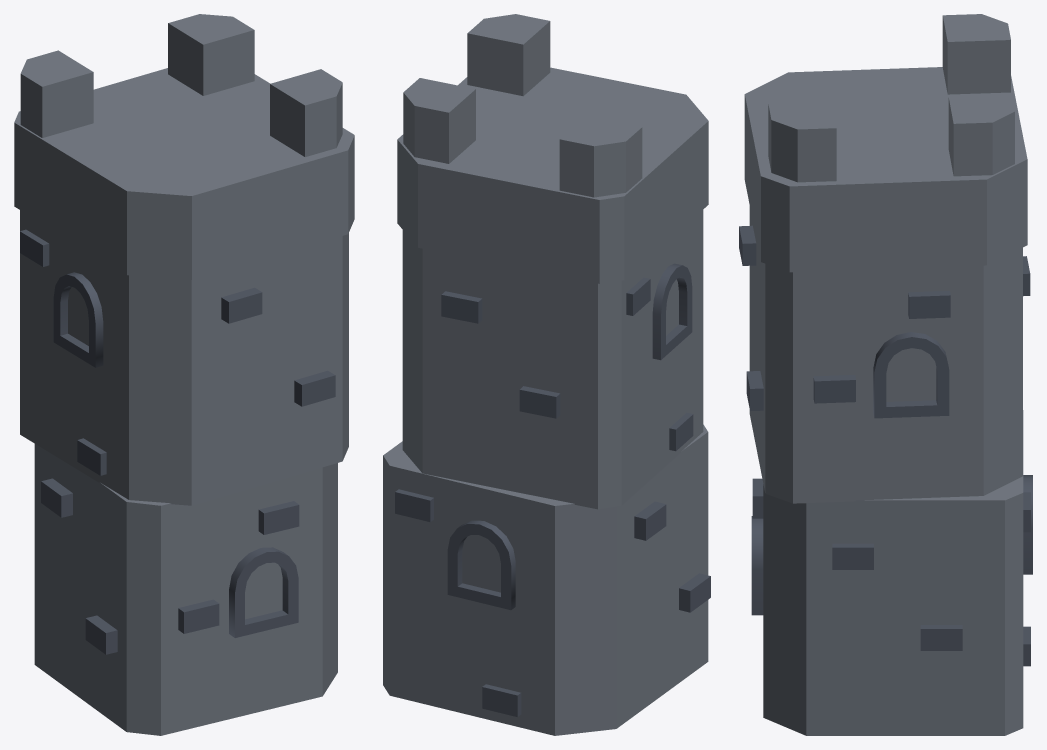
The model's file is Tower.fbx.
3 renders of one model, left to right at view 1: azimuth 30°, elevation 25°; view 2: azimuth 150°, elevation 25°; view 3: azimuth 270°, elevation 25°, orthographic. The views are drawn at different scales.
Parts seen in each view (by area): view 1: Cube.002; view 2: Cube.002; view 3: Cube.002.
Part boxes in pixels (x1=…): Cube.002: x1=14, y1=14, x2=354, y2=735; Cube.002: x1=383, y1=14, x2=710, y2=735; Cube.002: x1=739, y1=14, x2=1032, y2=735.
Bounding box in the file's own units: 277 × 632 × 277.
